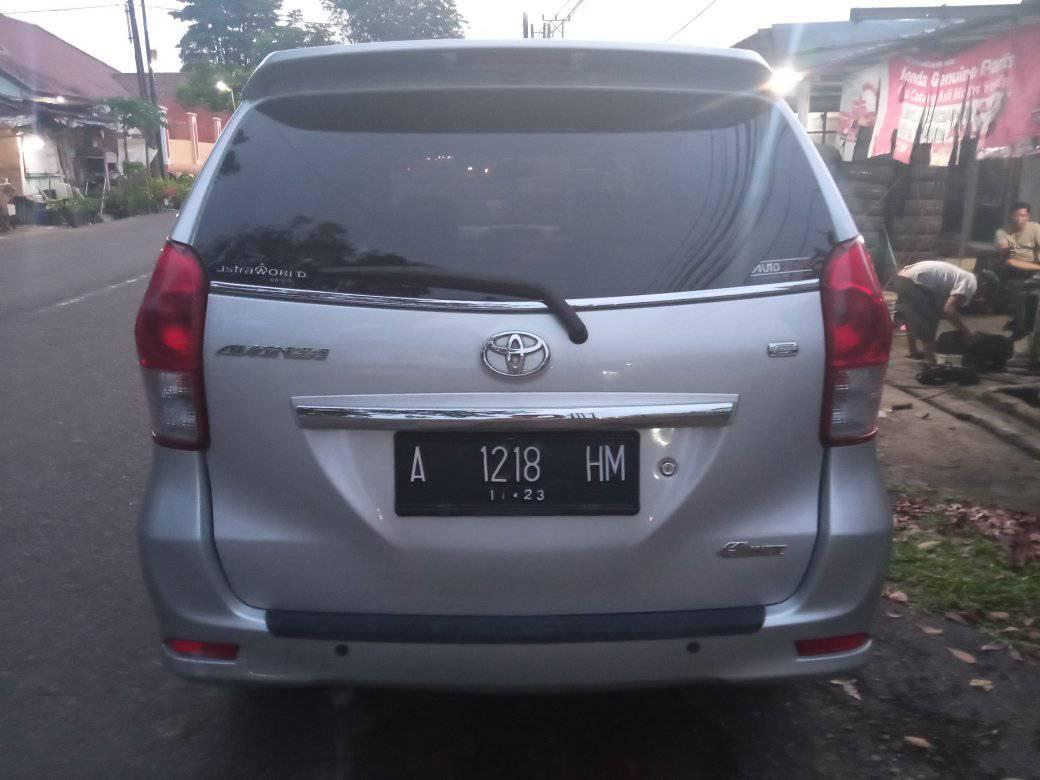plate: (393, 430, 645, 518)
